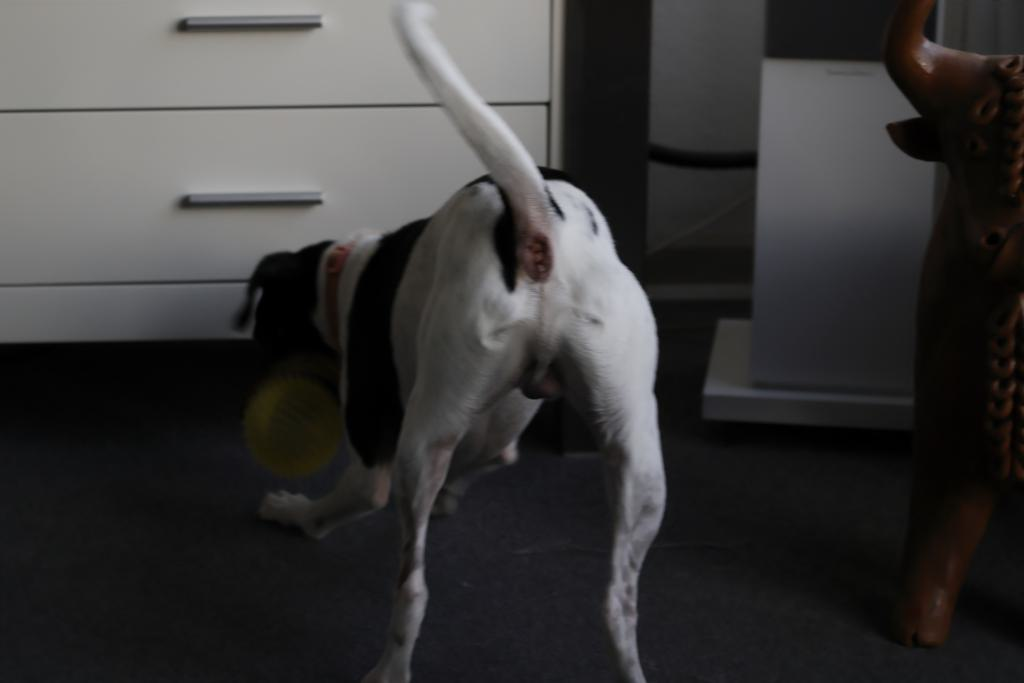Cattle: (863, 0, 1024, 664)
Dog: (210, 0, 681, 683)
